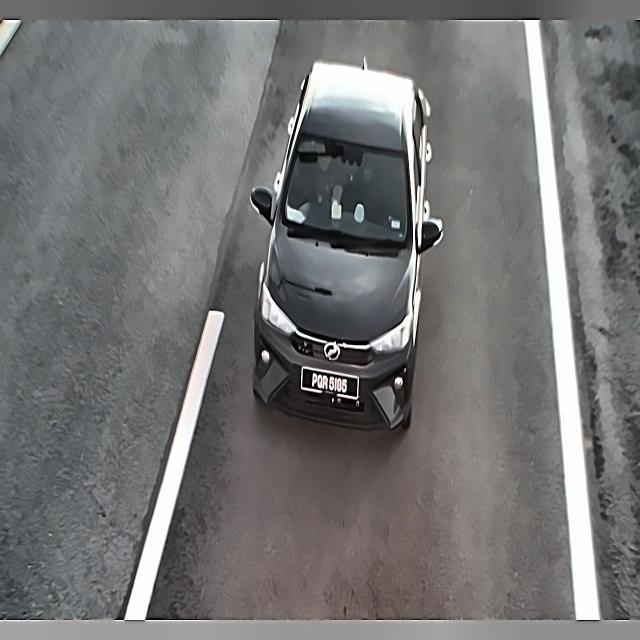car: (296, 370, 357, 404)
